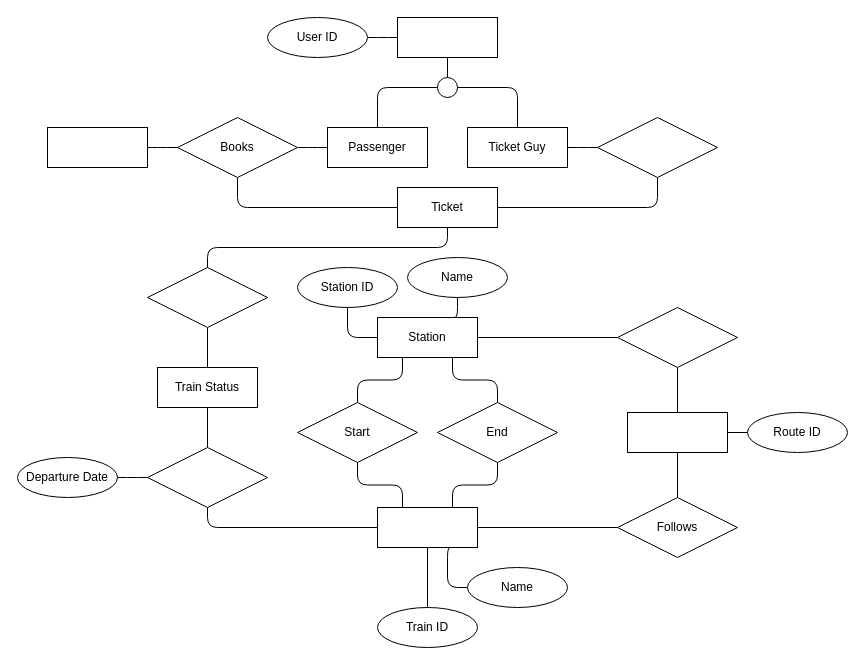
Image size: 865x665. Some labels were removed from this diagram. Each missing label, with the centre of its shape:
Consists Of: (677,337)
Has: (207,477)
Is booked for: (207,297)
Issues: (657,147)
Route: (677,432)
Train: (427,527)
Transaction: (97,147)
User: (447,37)
